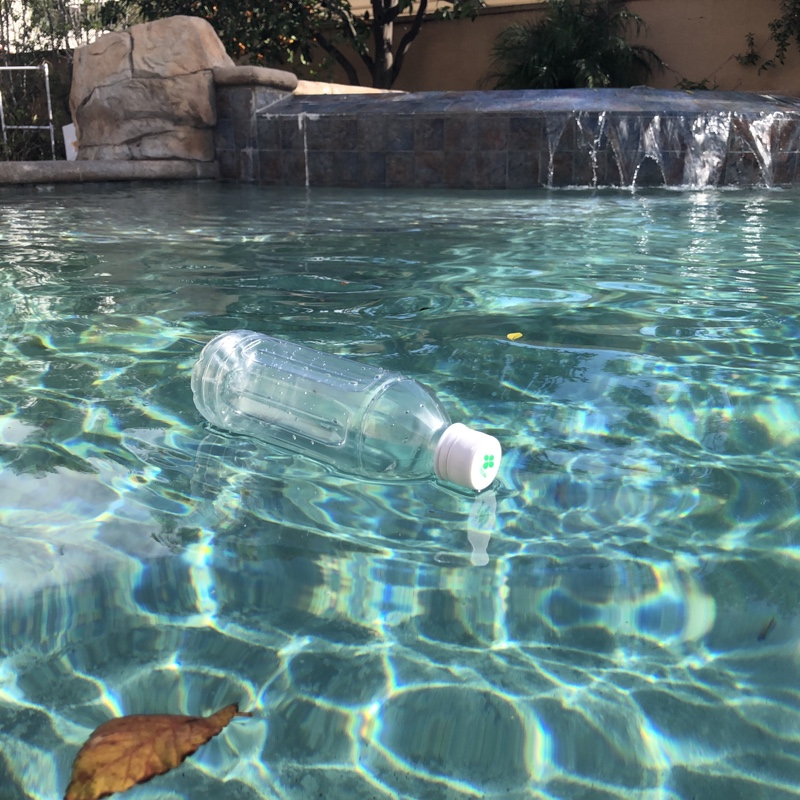Plastic Bottle: (190, 326, 505, 502)
